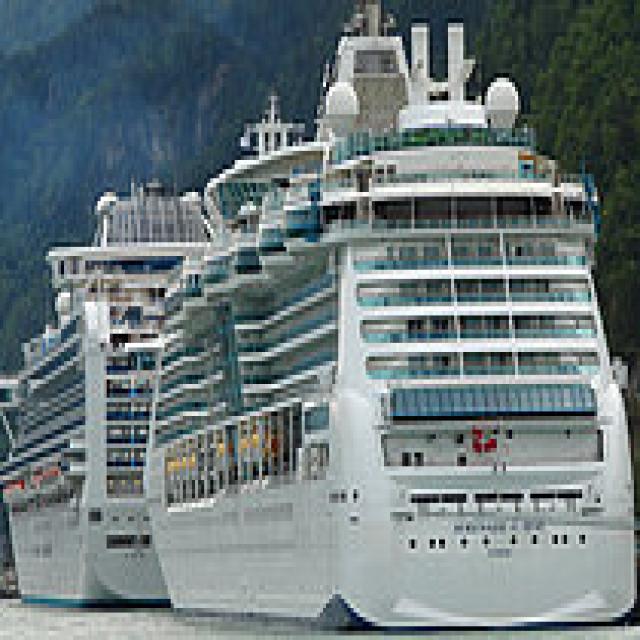Ship: (141, 1, 640, 636)
